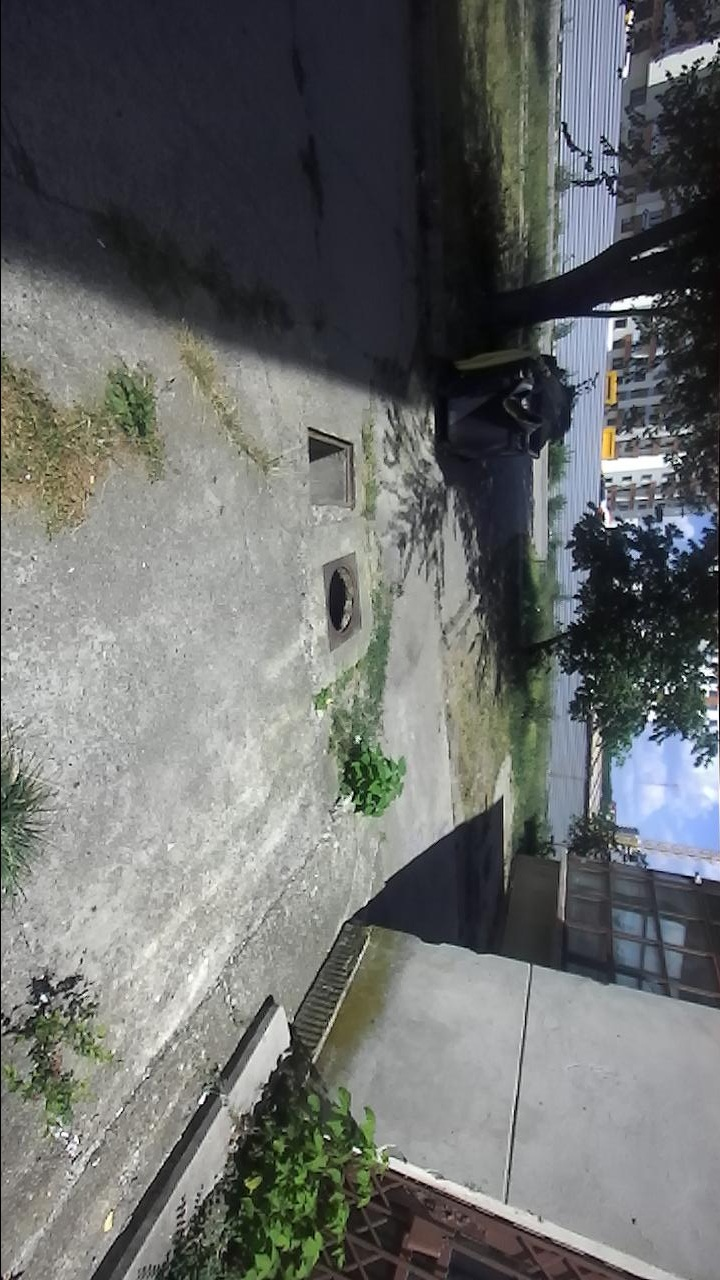drain: (306, 425, 358, 511), (323, 561, 360, 637)
